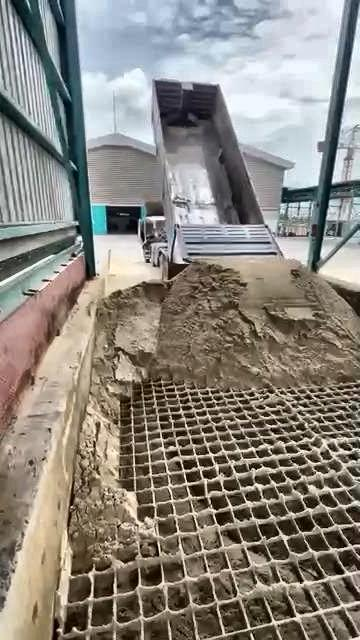sand: (70, 257, 360, 570)
